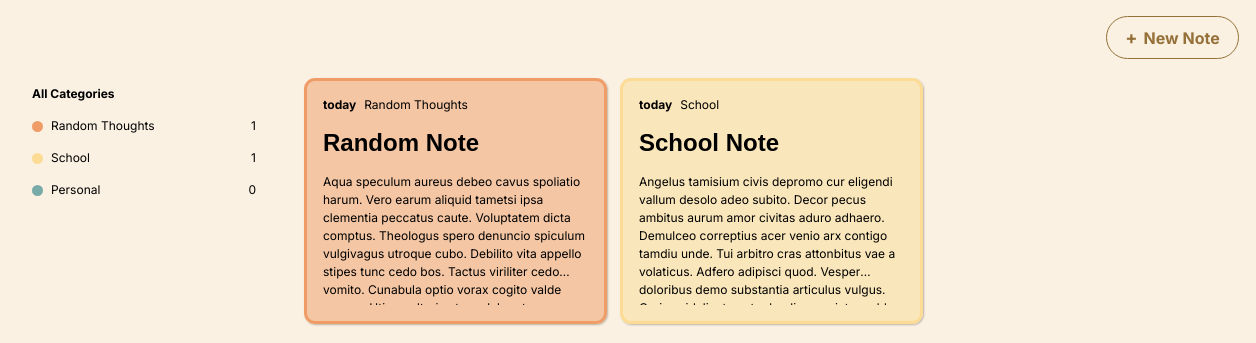
it: NotesPage › clears the filter when clicking All Categories
Expected: the heading "Random Note" is shown, [323,129,479,156]
Expected: the heading "School Note" is shown, [639,129,779,156]
# Select a category first, then click All Categories to clear filter
Click the 2nd text "School": (70, 158) [51,150,90,165]
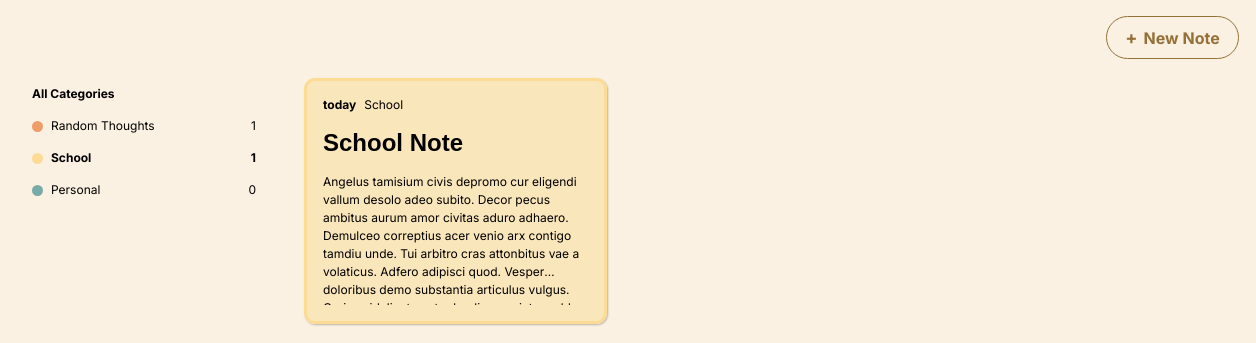
Result: the button "Random Note" is gone
# Click All Categories to show all again
Click the button "All Categories": (144, 94) [16,78,272,110]
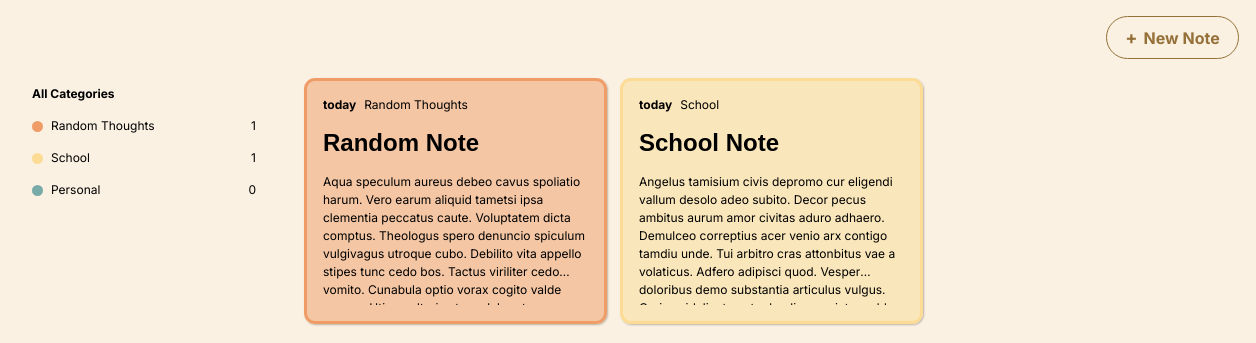
Expected: the heading "School Note" is shown, [639,129,779,156]
Result: the heading "Random Note" is shown at [323,129,479,156]
